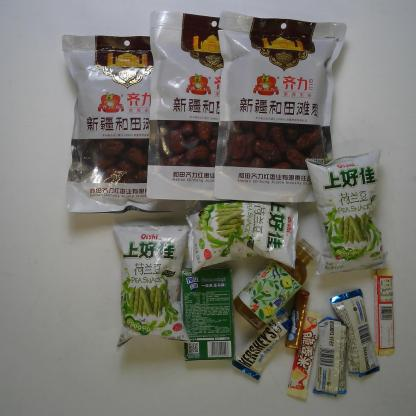Candy: (286, 288, 310, 350)
Chocolate: (330, 289, 381, 379), (231, 308, 293, 380), (284, 309, 324, 400), (312, 317, 349, 397), (369, 266, 397, 358)
Dessert: (178, 261, 238, 365)
Dried Food: (214, 11, 347, 207), (60, 33, 186, 217), (144, 8, 228, 206)
Drink: (231, 240, 319, 329)
Puffed Food: (112, 218, 196, 356), (300, 150, 391, 277), (181, 201, 302, 273)
